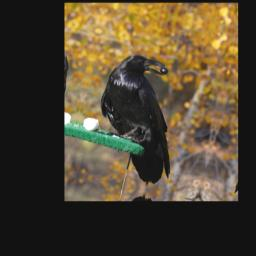Crow: (83, 49, 195, 189)
